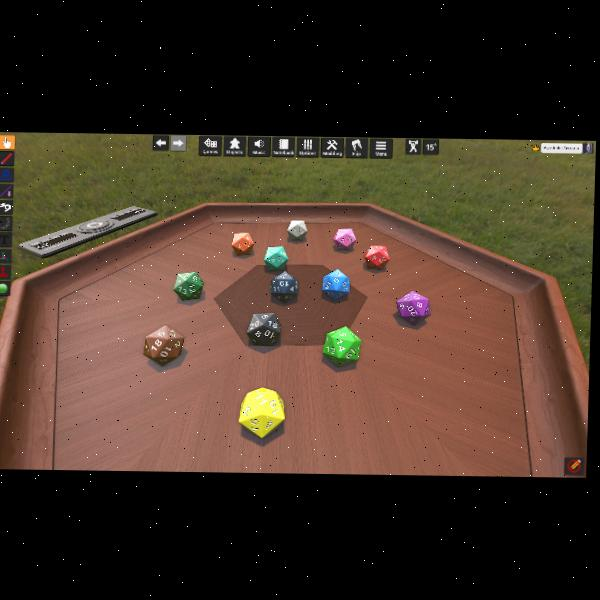d20: (239, 385, 287, 437), (143, 324, 187, 365), (322, 325, 360, 365), (247, 311, 282, 343), (399, 289, 431, 324), (173, 271, 204, 301), (270, 271, 299, 302), (322, 269, 350, 299), (264, 246, 289, 271), (367, 245, 390, 269), (333, 227, 357, 249), (232, 231, 254, 254), (287, 219, 308, 240)
